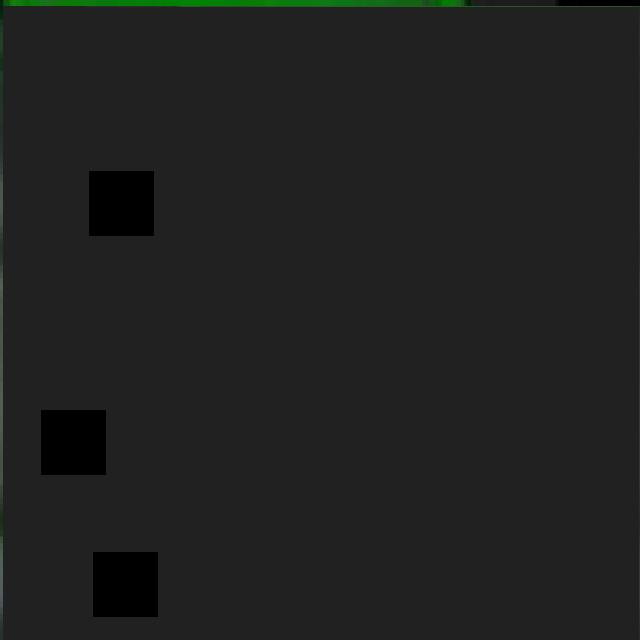nofire: (3, 6, 640, 640)
